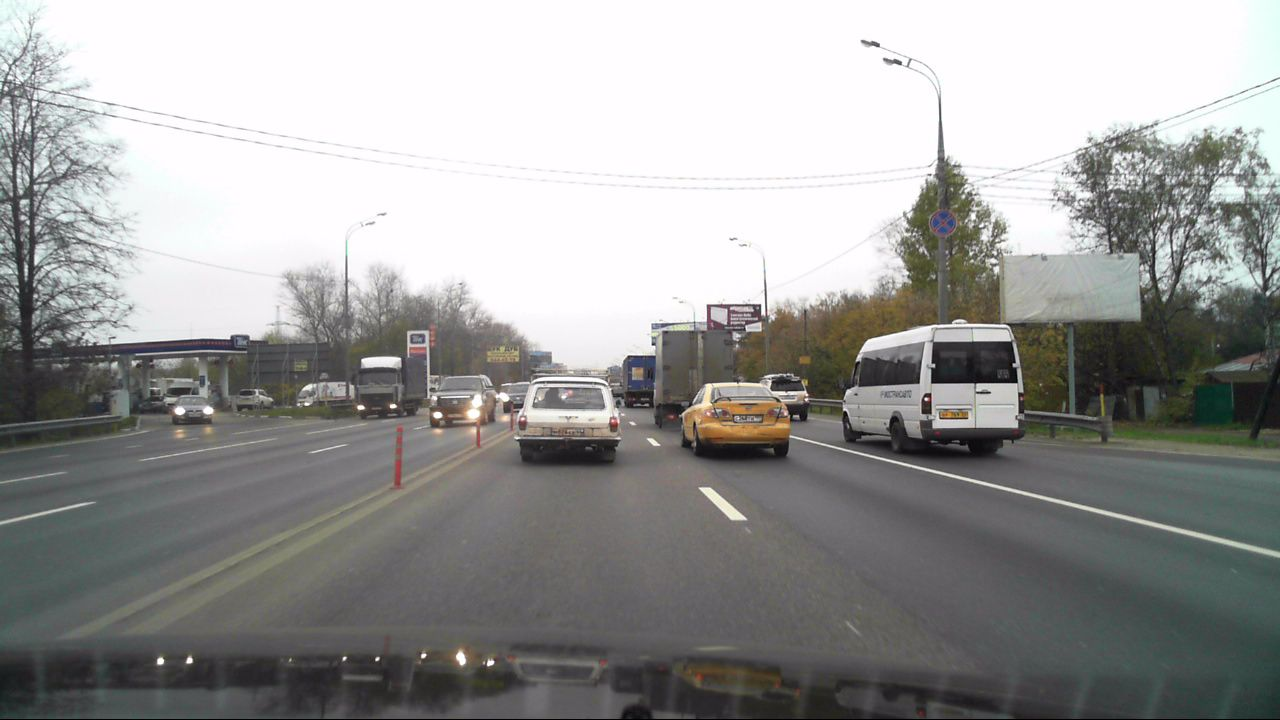No Parking: (928, 210, 957, 236)
